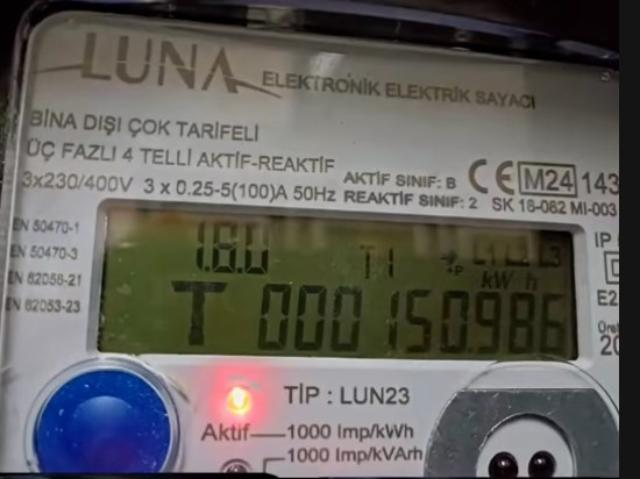electric-meter-detection: (0, 3, 620, 478)
